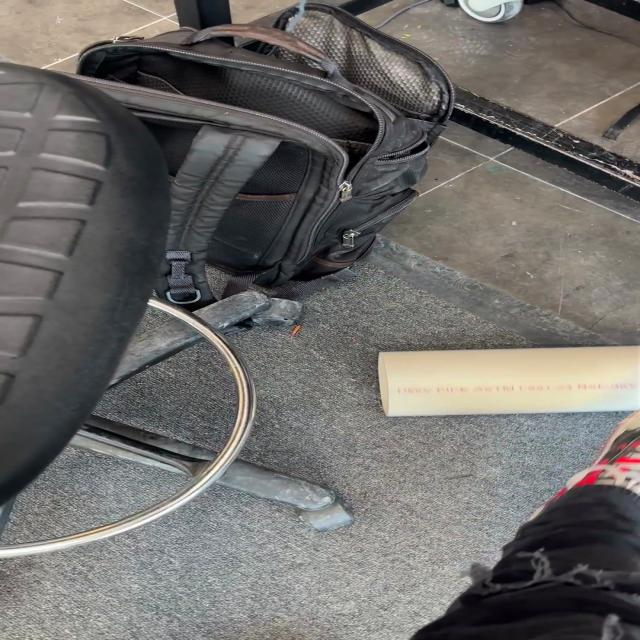Coral: (376, 344, 638, 418)
